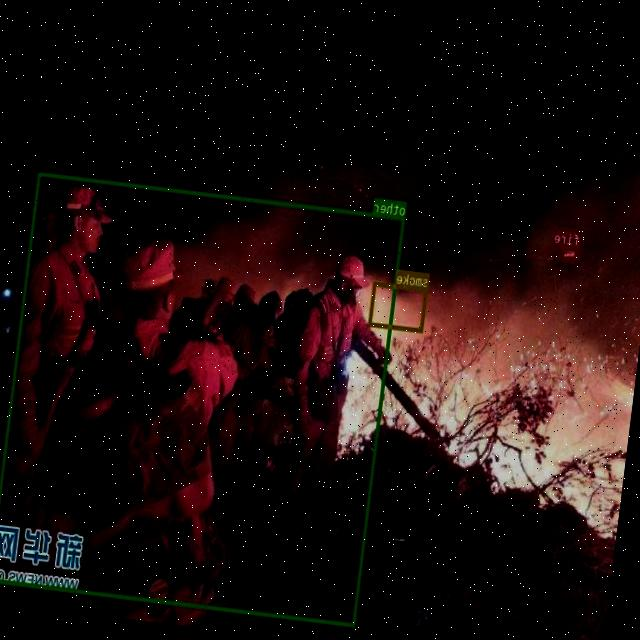fire: (560, 243, 579, 260)
smoke: (368, 281, 428, 332)
